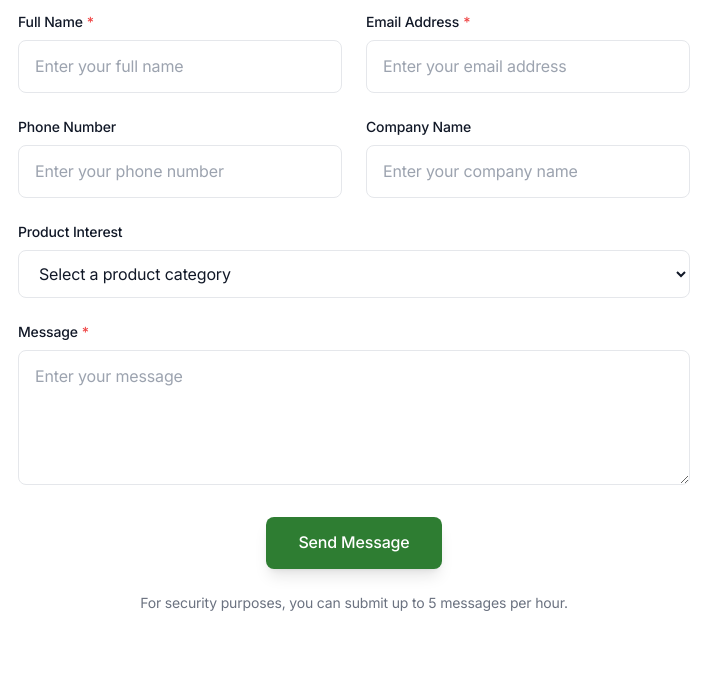
Test: ContactForm Component › clears validation errors when user starts typing
This screenshot has width=707, height=684.
Note: Submit empty form to trigger validation errors
Click the button "Send Message": [354, 543] box x1=266 y1=517 x2=442 y2=568
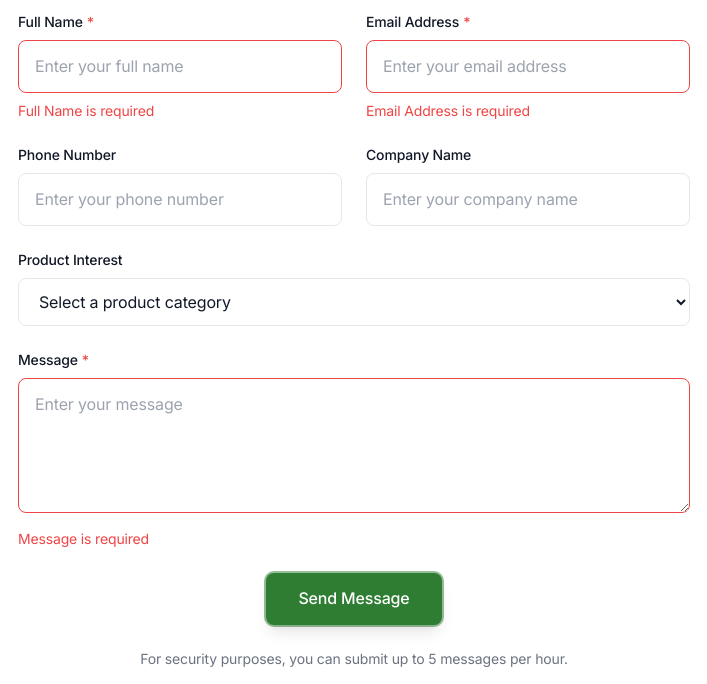
Check: the text "Full Name is required" is shown, box x1=18 y1=102 x2=154 y2=119
Note: Start typing in name field
In the field labelled "Full Name*": [180, 67] box x1=18 y1=40 x2=342 y2=93, type "J"
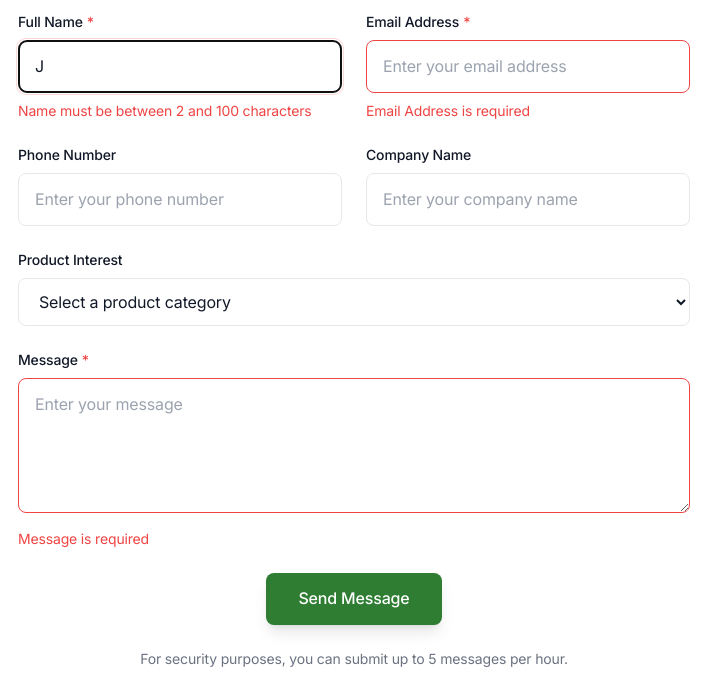
Check: the text "Full Name is required" is gone
